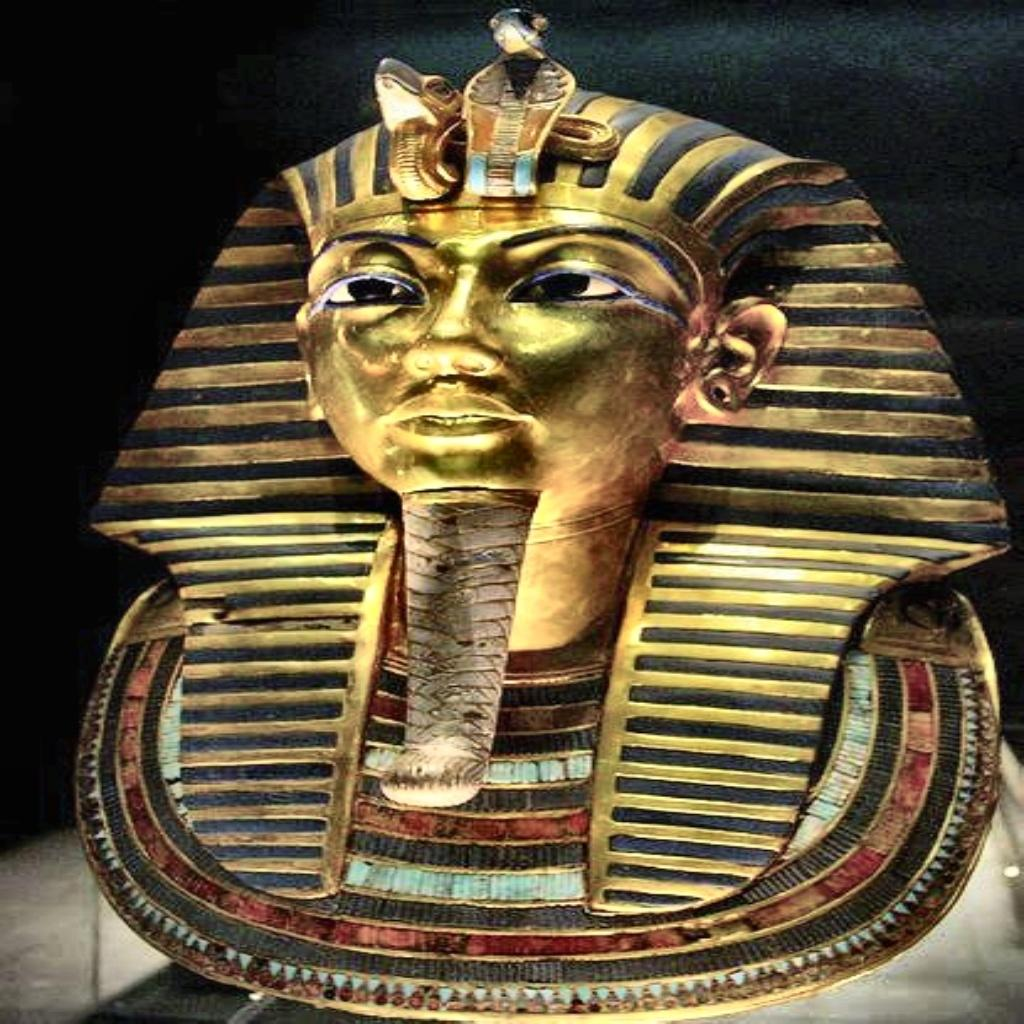Mask of Tutankhamun: (66, 8, 1012, 1018)
